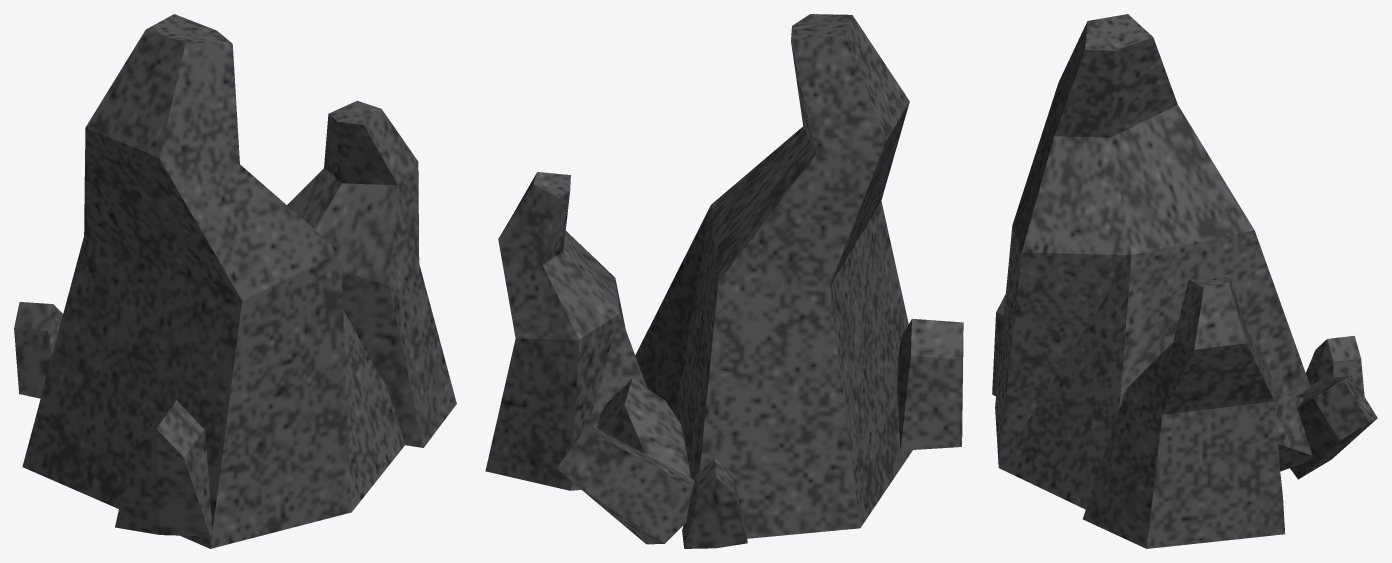
3 views of the same model, side by side, from view 1: azimuth 30°, elevation 25°; view 2: azimuth 150°, elevation 25°; view 3: azimuth 270°, elevation 25° (orthographic). The views are drawn at different scales.
Visible parts, largest first — view 1: Rock Type3 01 mesh; view 2: Rock Type3 01 mesh; view 3: Rock Type3 01 mesh.
Boxes of the visible parts, left/top/right/bottom form: Rock Type3 01 mesh: left=14, top=14, right=456, bottom=548; Rock Type3 01 mesh: left=485, top=14, right=963, bottom=548; Rock Type3 01 mesh: left=992, top=14, right=1377, bottom=548.
Bounding box in the file's own units: 183 × 210 × 177.
